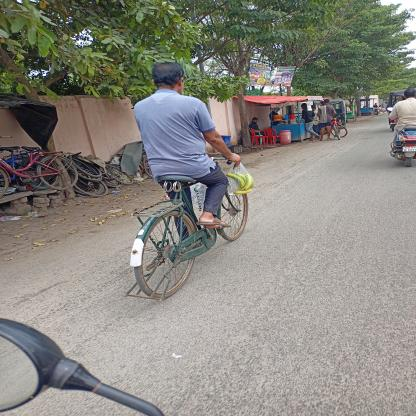bicycle: (102, 151, 263, 308)
